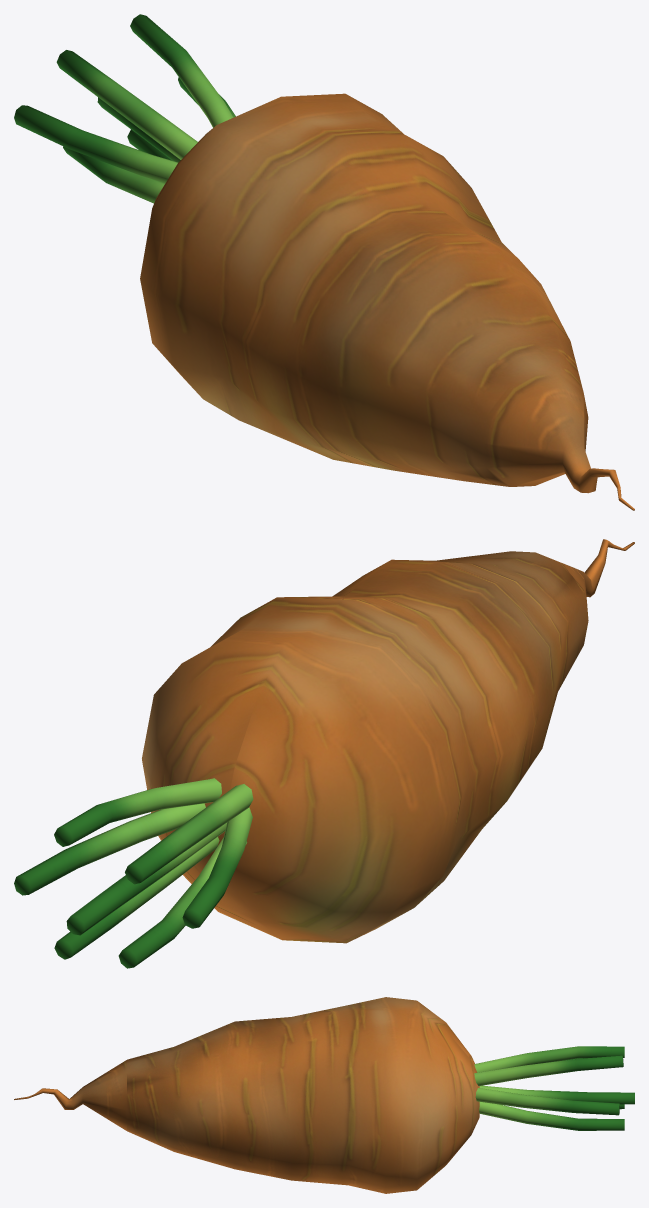
The model's file is Carrot.FBX.
3 views of the same model, one above another, from view 1: azimuth 30°, elevation 25°; view 2: azimuth 150°, elevation 25°; view 3: azimuth 270°, elevation 25° (orthographic). The views are drawn at different scales.
Visible parts, largest first — view 1: Object003; view 2: Object003; view 3: Object003.
Boxes of the visible parts, <box> form: Object003: <box>14,14,634,510</box>; Object003: <box>14,539,634,968</box>; Object003: <box>14,997,634,1193</box>.
Bounding box in the file's own units: 23.49 × 76.34 × 23.42.
1 material, 1 textured.
